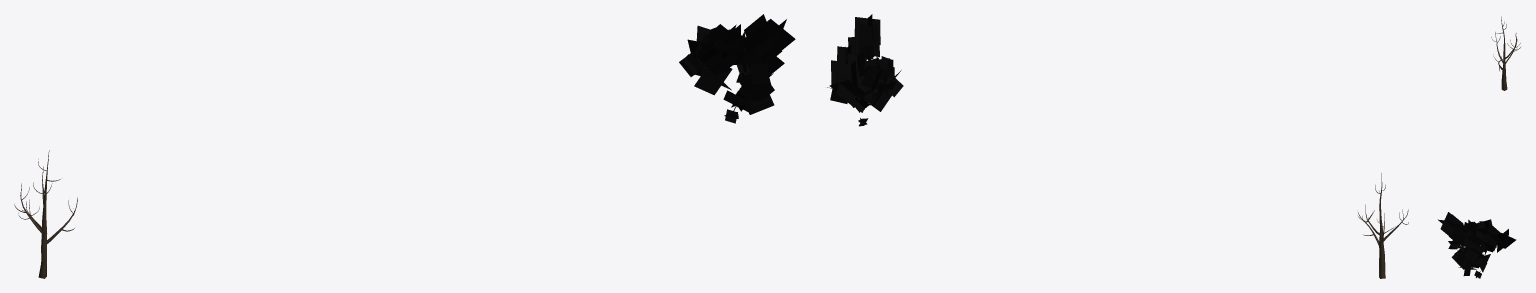
Rendered from no_leaves_tree_three.glb.
The picture shows the model from 3 angles, left to right: view 1: azimuth 30°, elevation 25°; view 2: azimuth 150°, elevation 25°; view 3: azimuth 270°, elevation 25°; orthographic projection. The views are drawn at different scales.
Visible parts, largest first — view 1: leaves.008_21.002, trunk.008_22.002; view 2: leaves.008_21.002, trunk.008_22.002; view 3: leaves.008_21.002, trunk.008_22.002.
Boxes of the visible parts, left/top/right/bottom form: leaves.008_21.002: left=679, top=14, right=795, bottom=123; trunk.008_22.002: left=14, top=150, right=77, bottom=278; leaves.008_21.002: left=827, top=14, right=903, bottom=126; trunk.008_22.002: left=1358, top=173, right=1408, bottom=278; leaves.008_21.002: left=1438, top=212, right=1516, bottom=278; trunk.008_22.002: left=1491, top=16, right=1520, bottom=90.
Size of the model in its own units: 254 by 42.63 by 42.29.
2 materials, 2 textured.
